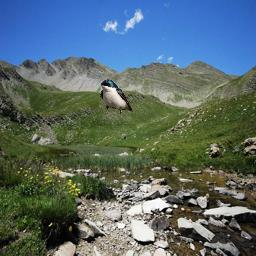Swallow: (100, 79, 133, 114)
